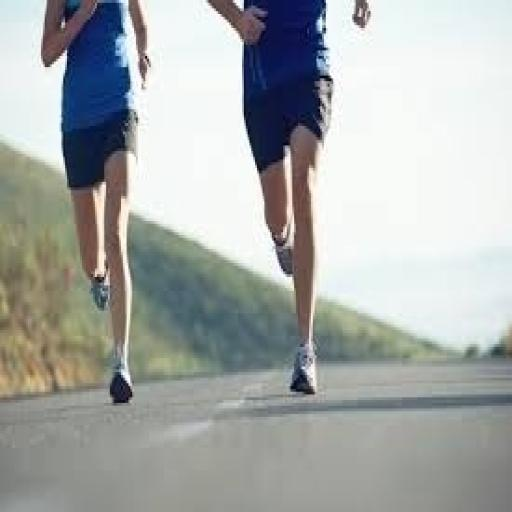running: (204, 0, 374, 397), (39, 0, 155, 406)
